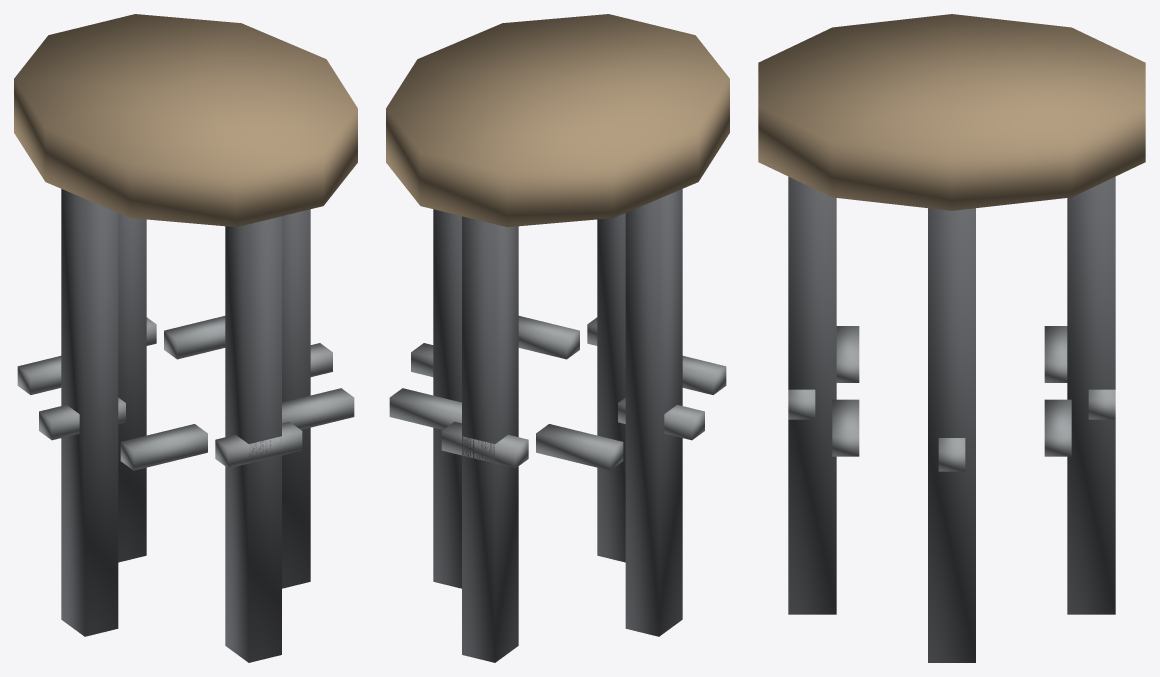
Rendered from counter_stool__deep.glb.
The picture shows the model from 3 angles, left to right: view 1: azimuth 30°, elevation 25°; view 2: azimuth 150°, elevation 25°; view 3: azimuth 270°, elevation 25°; orthographic projection. The views are drawn at different scales.
Parts seen in each view (by area): view 1: world; view 2: world; view 3: world.
Part boxes in pixels (x1,y1,x2,y2): world: (14,14,357,662); world: (386,14,729,662); world: (758,14,1145,662).
Size of the model in its own units: 0.38 by 0.655 by 0.4409.
